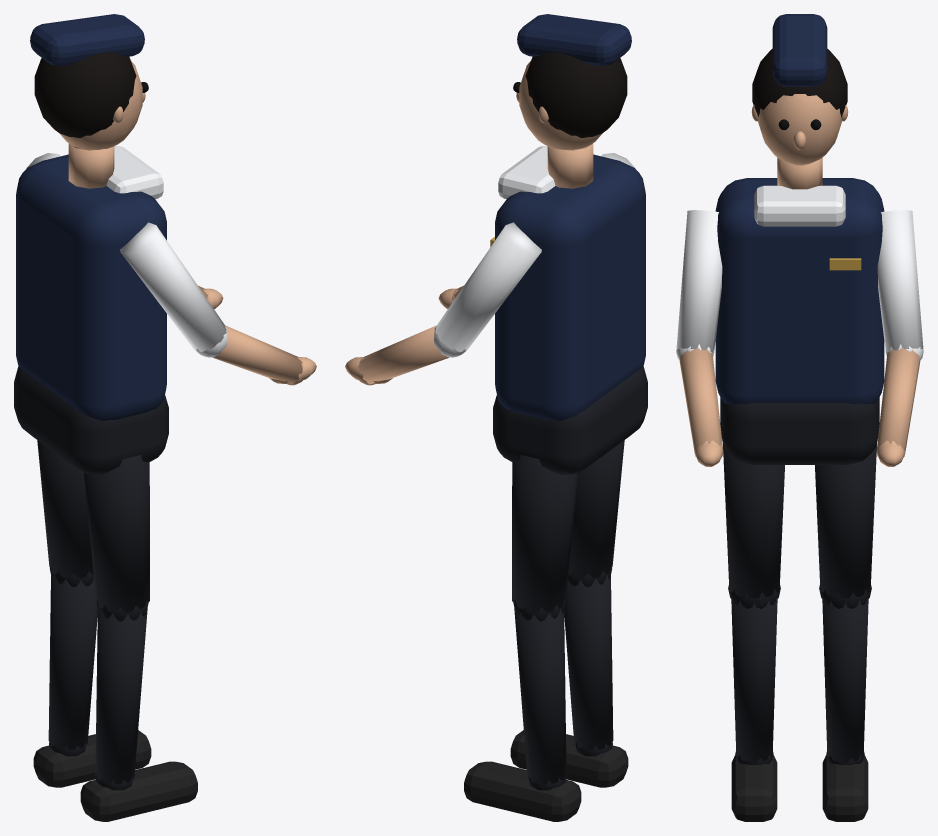
File: attendant.glb
The picture shows the model from 3 angles, left to right: view 1: azimuth 30°, elevation 25°; view 2: azimuth 150°, elevation 25°; view 3: azimuth 270°, elevation 25°; orthographic projection. The views are drawn at different scales.
Parts seen in each view (by area): view 1: Attendant; view 2: Attendant; view 3: Attendant.
Boxes of the visible parts, x1,y1,x2,y2 form: Attendant: (14,14,316,821); Attendant: (345,14,647,821); Attendant: (676,14,923,821).
Bounding box in the file's own units: 0.5655 × 1.83 × 0.544.
